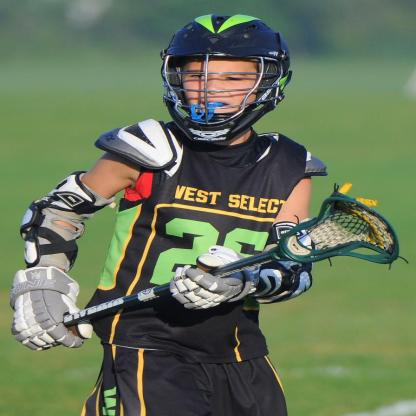Helmet: (156, 11, 292, 144)
